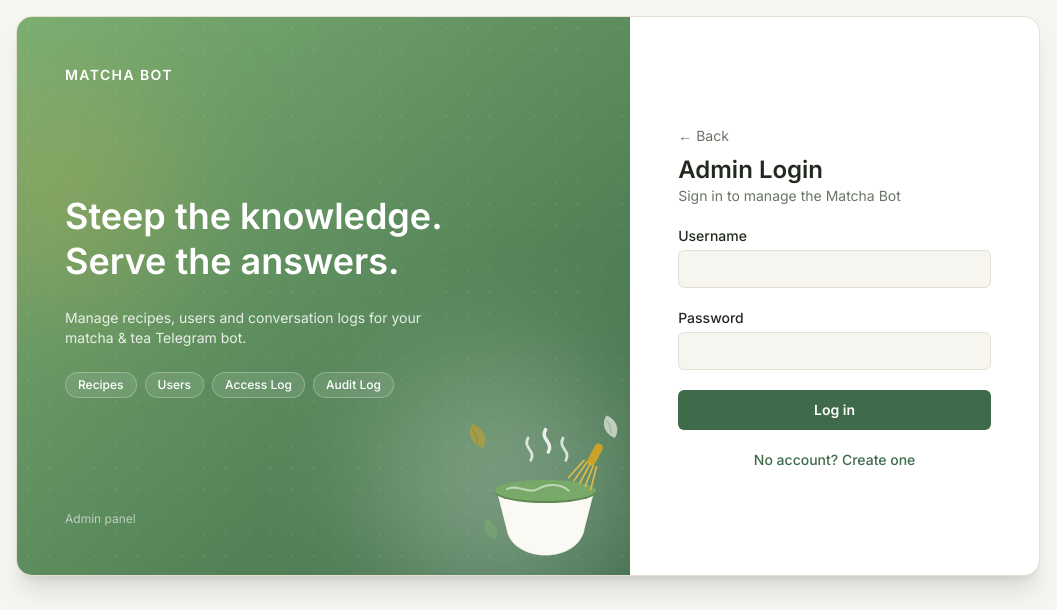
Test: LoginPage › shows an error and does not navigate on bad credentials
Type "admin" into the field labelled "Username".
click(835, 268); type("admin")  # box x1=678 y1=250 x2=991 y2=288
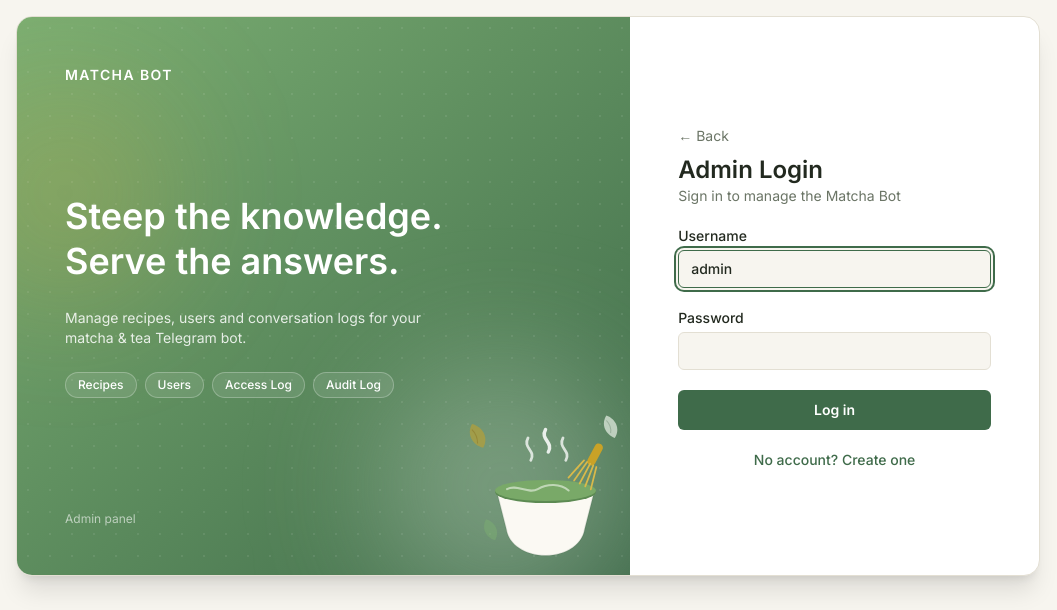
Type "wrong" into the password field labelled "Password".
click(835, 350); type("wrong")  # box x1=678 y1=332 x2=991 y2=370
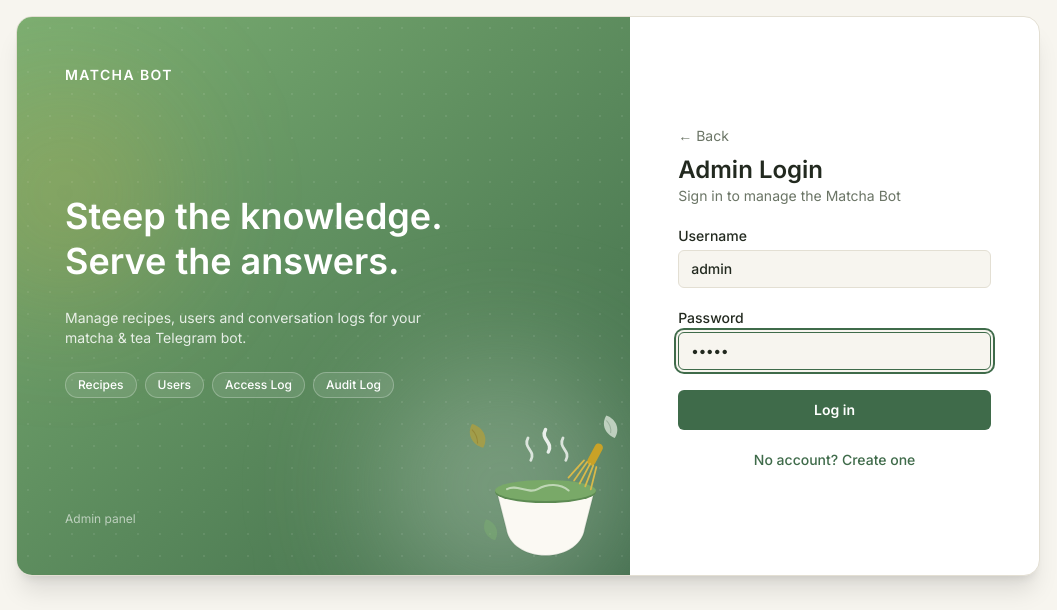
Click the button "Log in".
click(835, 410)  # box x1=678 y1=390 x2=991 y2=430
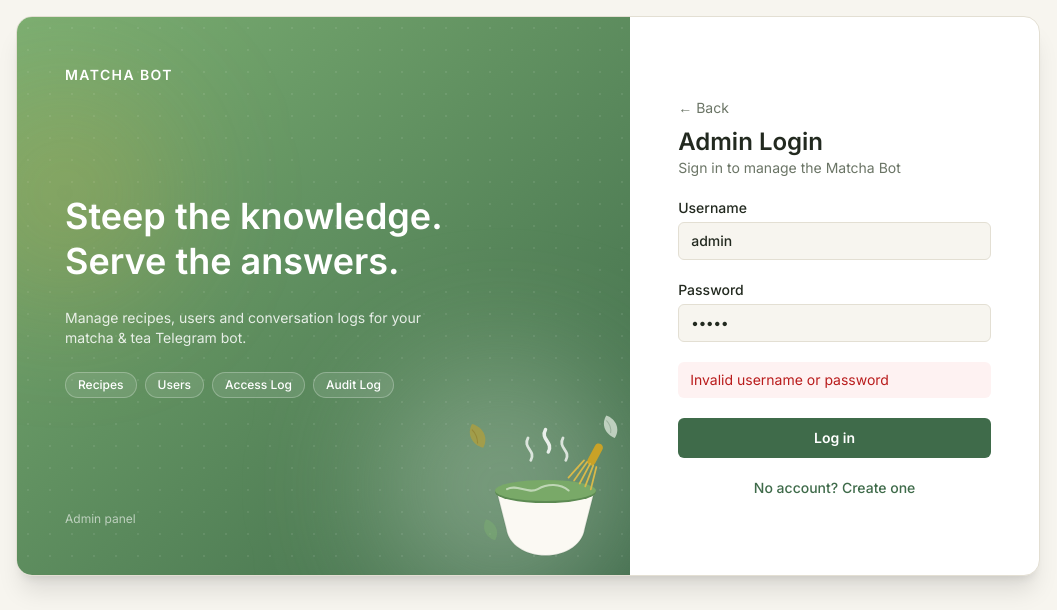
expect the message reads "Invalid username or password": met, box x1=690 y1=370 x2=889 y2=388
